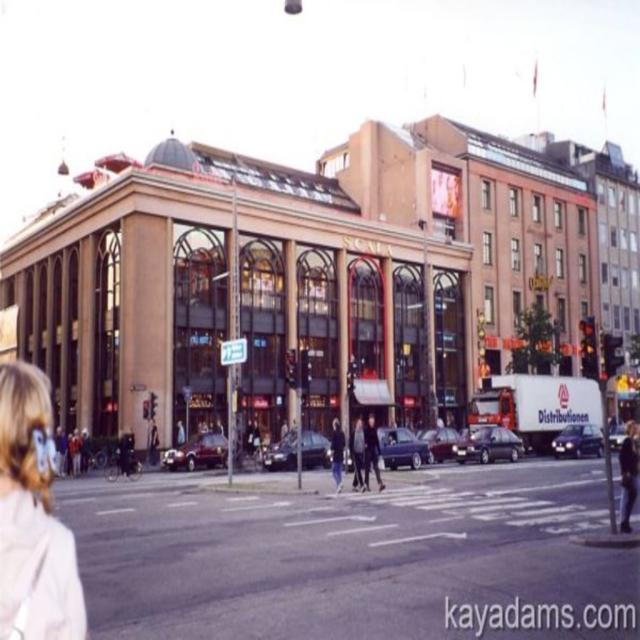car: (452, 420, 523, 459), (549, 412, 605, 457)
